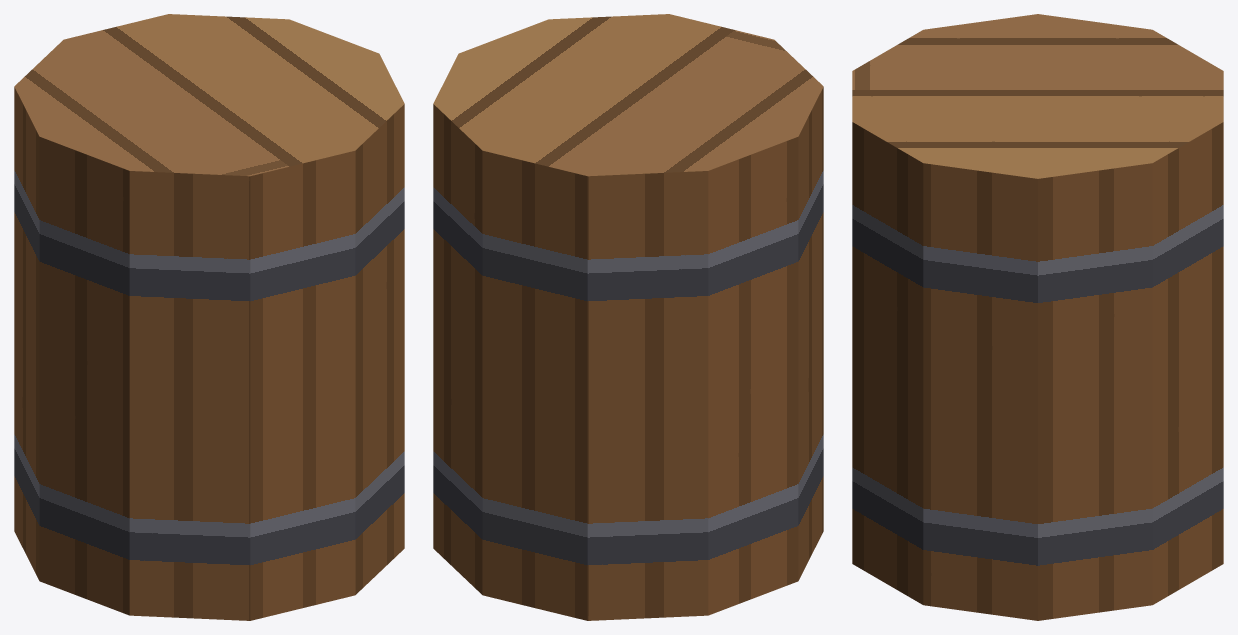
File: barrel.glb
The picture shows the model from 3 angles, left to right: view 1: azimuth 30°, elevation 25°; view 2: azimuth 150°, elevation 25°; view 3: azimuth 270°, elevation 25°; orthographic projection.
Parts seen in each view (by area): view 1: barrel; view 2: barrel; view 3: barrel.
Part boxes in pixels (bbox=[...]): barrel: bbox=[14, 14, 404, 620]; barrel: bbox=[433, 14, 823, 620]; barrel: bbox=[852, 14, 1223, 620].
Bounding box in the file's own units: 0.8 × 1 × 0.7608.
Materials: 2 (2 with a texture image).
